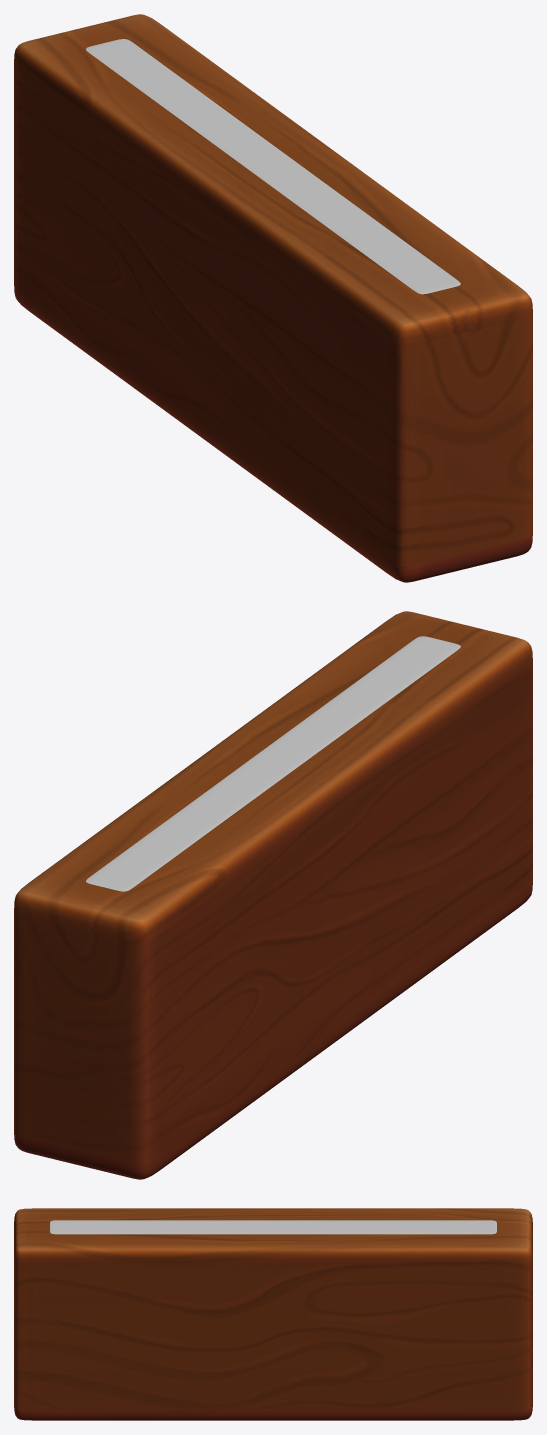
Rendered from wall_5_2.fbx.
3 renders of one model, top to bottom at view 1: azimuth 30°, elevation 25°; view 2: azimuth 150°, elevation 25°; view 3: azimuth 270°, elevation 25°, orthographic. The views are drawn at different scales.
Visible parts, largest first — view 1: wall_5, lego_point4; view 2: wall_5, lego_point4; view 3: wall_5, lego_point4.
Part boxes in pixels (x1,y1,x2,y2): wall_5: (14, 14, 532, 582); lego_point4: (86, 39, 460, 294); wall_5: (14, 611, 532, 1179); lego_point4: (86, 636, 460, 891); wall_5: (14, 1208, 532, 1420); lego_point4: (50, 1220, 496, 1234).
Bounding box in the file's own units: 1.02 × 1.86 × 5.02.
